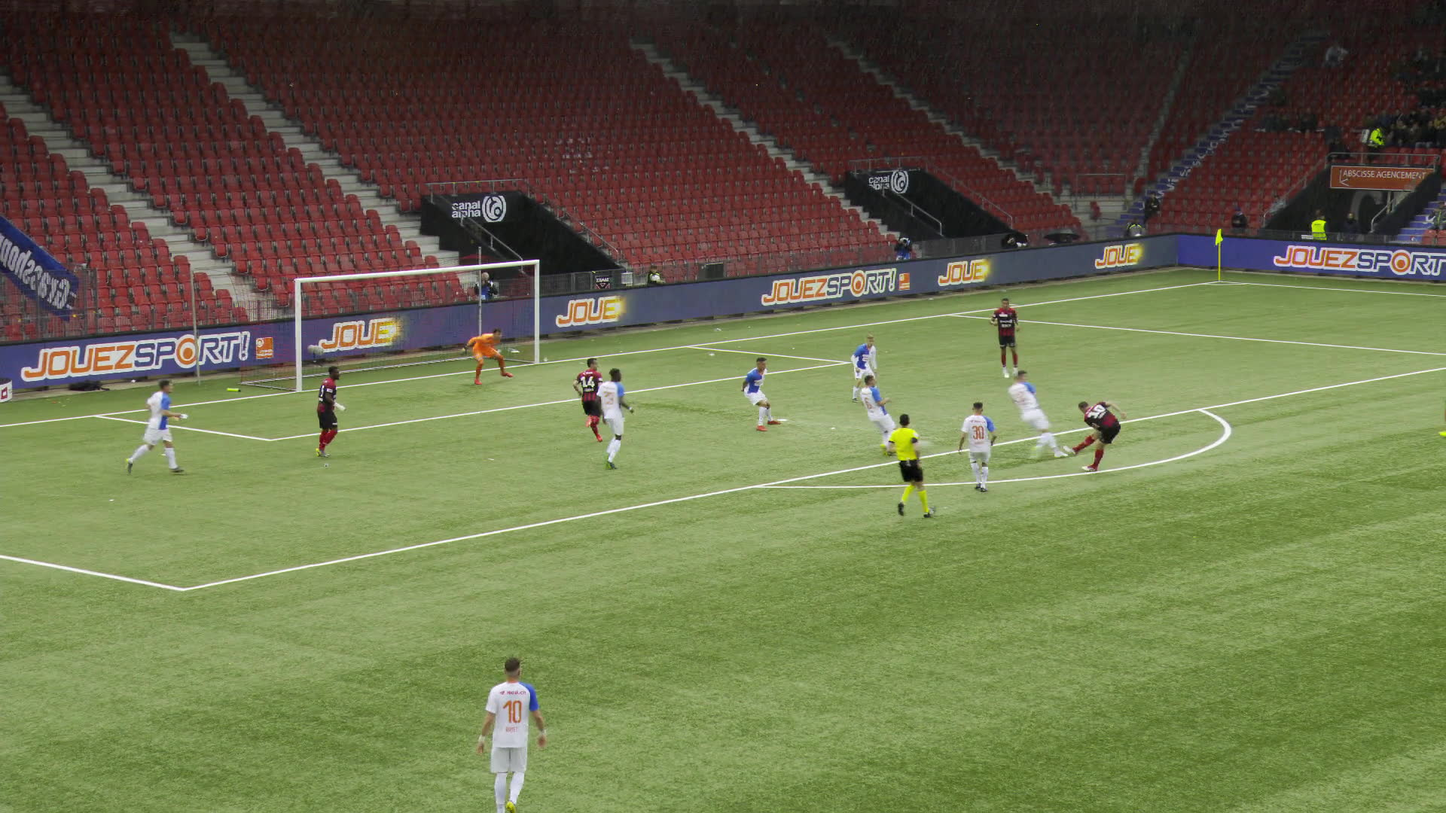ball: (918, 437, 929, 449)
player: (476, 655, 545, 812), (126, 379, 188, 473), (1005, 370, 1067, 460), (1063, 400, 1126, 471), (594, 367, 634, 470), (956, 400, 996, 492), (740, 357, 782, 431), (459, 327, 512, 384), (859, 374, 896, 454), (315, 365, 346, 458), (572, 358, 603, 442), (988, 297, 1019, 378), (850, 333, 877, 402), (1438, 429, 1445, 436)
referee: (886, 413, 935, 518)
